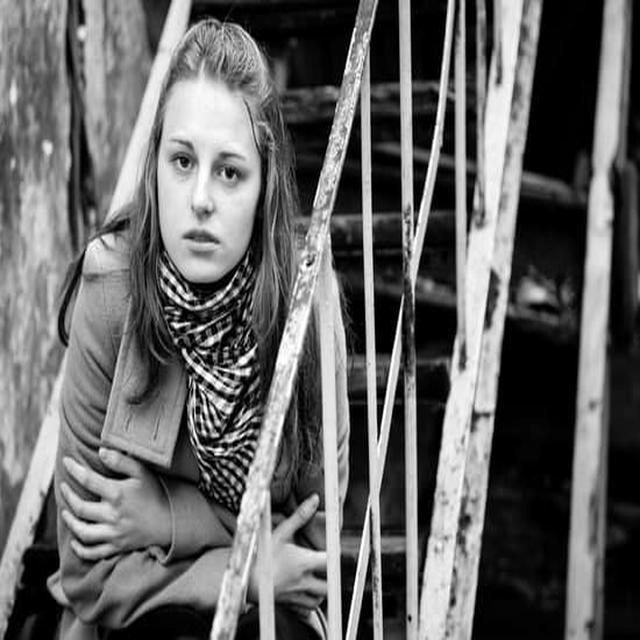Sadness: (162, 90, 253, 282)
